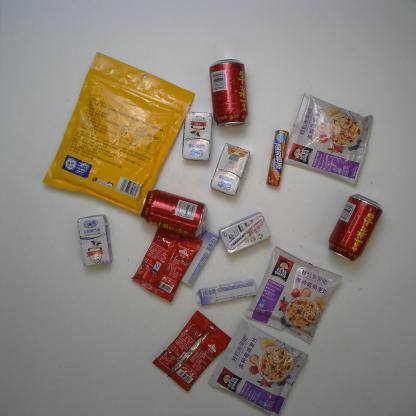Candy: (179, 231, 217, 286), (198, 279, 258, 306), (264, 128, 289, 188)
Dried Fruit: (40, 52, 196, 214)
Drink: (327, 193, 382, 262), (139, 188, 208, 237), (206, 57, 249, 127)
Instant Drink: (206, 316, 309, 413), (244, 244, 342, 344), (285, 92, 374, 185), (151, 310, 232, 393), (131, 224, 202, 303)
Milk: (218, 212, 271, 255), (208, 144, 250, 196), (77, 216, 112, 268), (181, 111, 213, 161)
